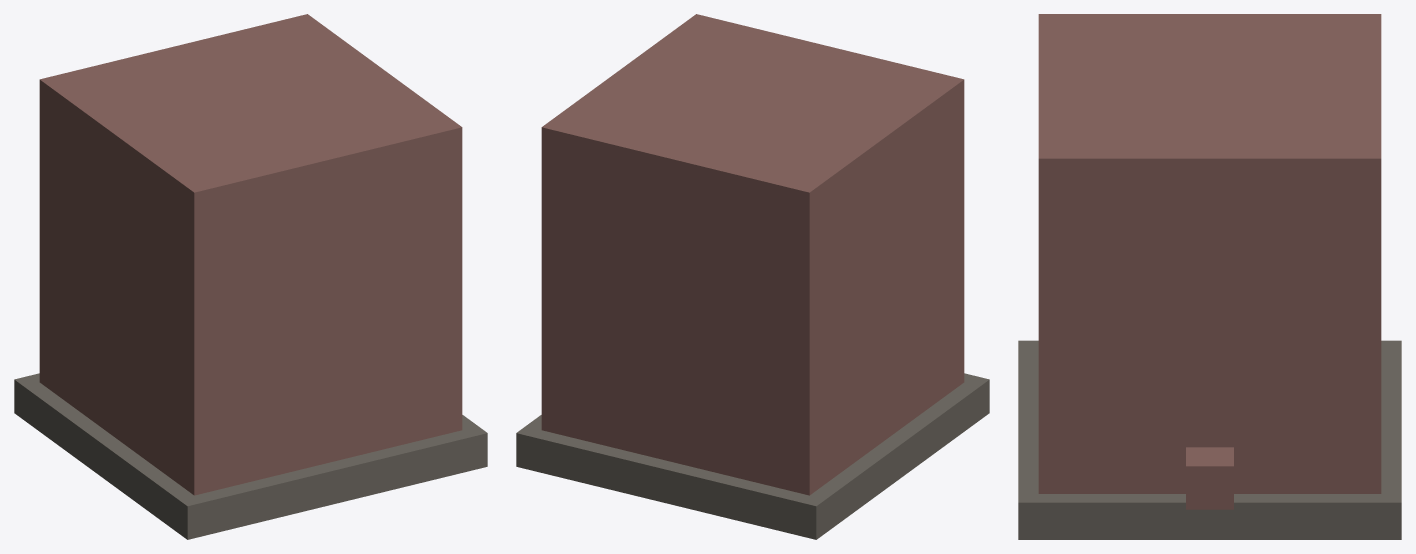
Rendered from fire-water-tank.source.glb.
The picture shows the model from 3 angles, left to right: view 1: azimuth 30°, elevation 25°; view 2: azimuth 150°, elevation 25°; view 3: azimuth 270°, elevation 25°; orthographic projection. The views are drawn at different scales.
Visible parts, largest first — view 1: fire-water-tank-tank-mesh, fire-water-tank-base-mesh; view 2: fire-water-tank-tank-mesh, fire-water-tank-base-mesh; view 3: fire-water-tank-tank-mesh, fire-water-tank-base-mesh, fire-water-tank-valve-mesh.
Part boxes in pixels (bbox=[...]): fire-water-tank-tank-mesh: bbox=[39, 14, 462, 495]; fire-water-tank-base-mesh: bbox=[14, 373, 487, 539]; fire-water-tank-tank-mesh: bbox=[541, 14, 964, 495]; fire-water-tank-base-mesh: bbox=[516, 373, 989, 539]; fire-water-tank-tank-mesh: bbox=[1038, 14, 1381, 493]; fire-water-tank-base-mesh: bbox=[1018, 340, 1401, 539]; fire-water-tank-valve-mesh: bbox=[1186, 447, 1233, 509].
Size of the model in its own units: 2.97 by 3 by 2.8.
